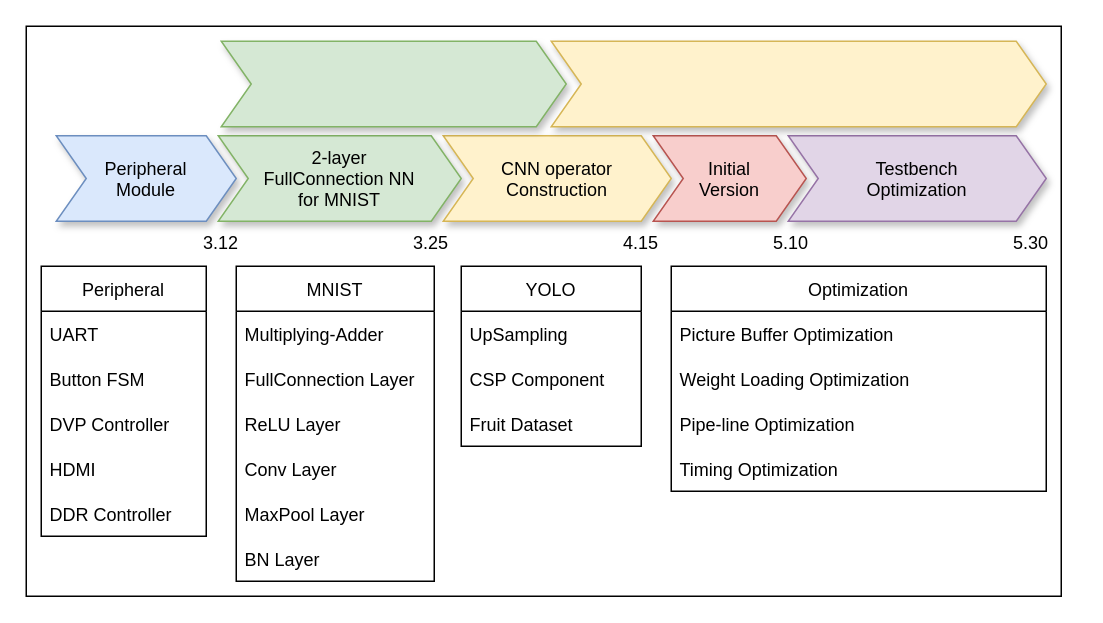
Some shapes in this 1103 by 623 pixel diagram are drawn without their labels. The shapes that lost their labels are listed below. From the top down, each one's centre as x and y in pixels, then its label:
(x=394, y=85): Run Algorithm on PC platform
(x=799, y=85): Implement Detection System on FPGA
